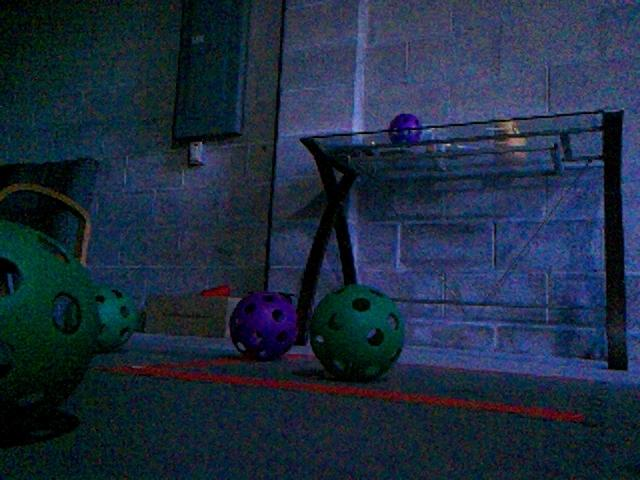Green: (1, 222, 100, 436), (307, 283, 408, 381), (90, 287, 143, 351)
Purple: (228, 289, 301, 361), (388, 113, 422, 145)
